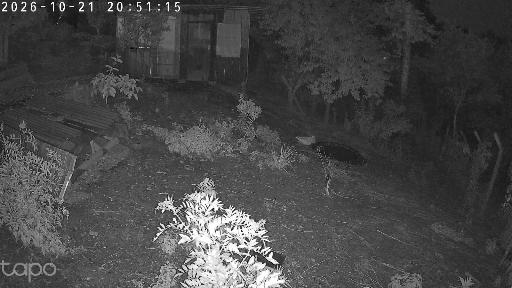pato: (295, 138, 311, 147), (306, 136, 316, 142)
